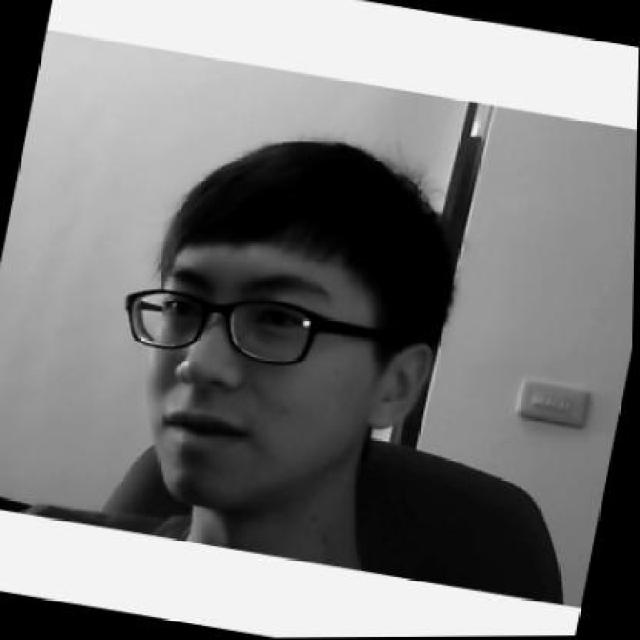attentif: (90, 108, 475, 540)
